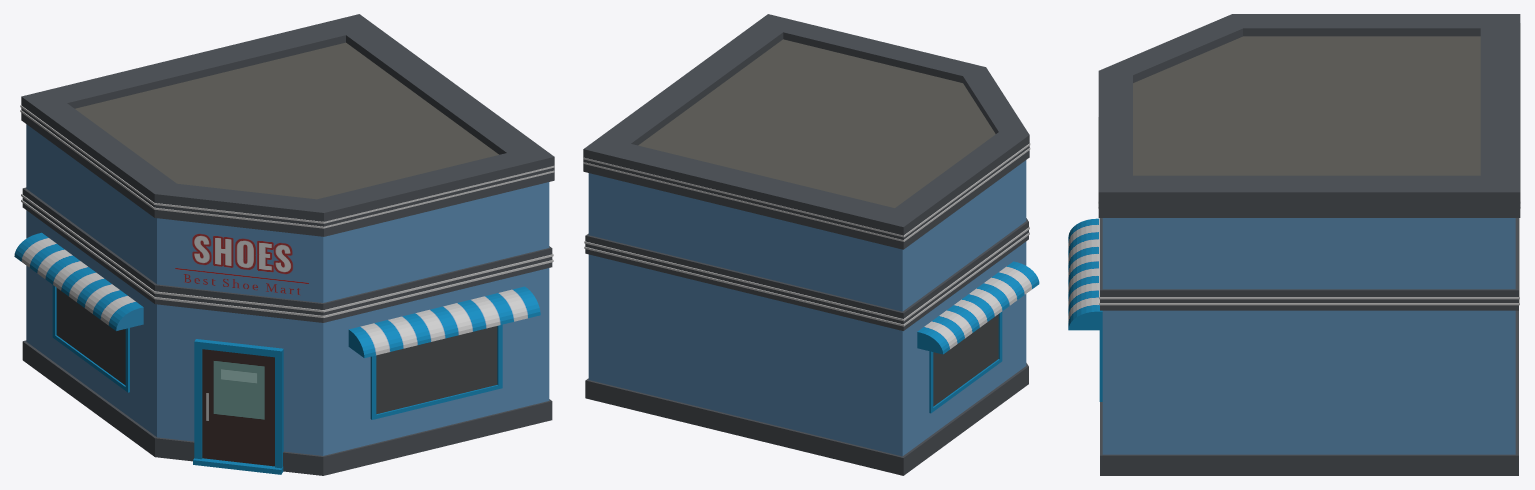
The model's file is building-shoes-shop.glb.
3 views of the same model, side by side, from view 1: azimuth 30°, elevation 25°; view 2: azimuth 150°, elevation 25°; view 3: azimuth 270°, elevation 25° (orthographic). The views are drawn at different scales.
Parts seen in each view (by area): view 1: Building_Shoes Shop; view 2: Building_Shoes Shop; view 3: Building_Shoes Shop.
Boxes of the visible parts, <box> form: Building_Shoes Shop: <box>14,14,554,475</box>; Building_Shoes Shop: <box>583,14,1039,475</box>; Building_Shoes Shop: <box>1068,14,1520,475</box>.
Bounding box in the file's own units: 12.04 × 8.36 × 12.04.
1 material, 1 textured.
